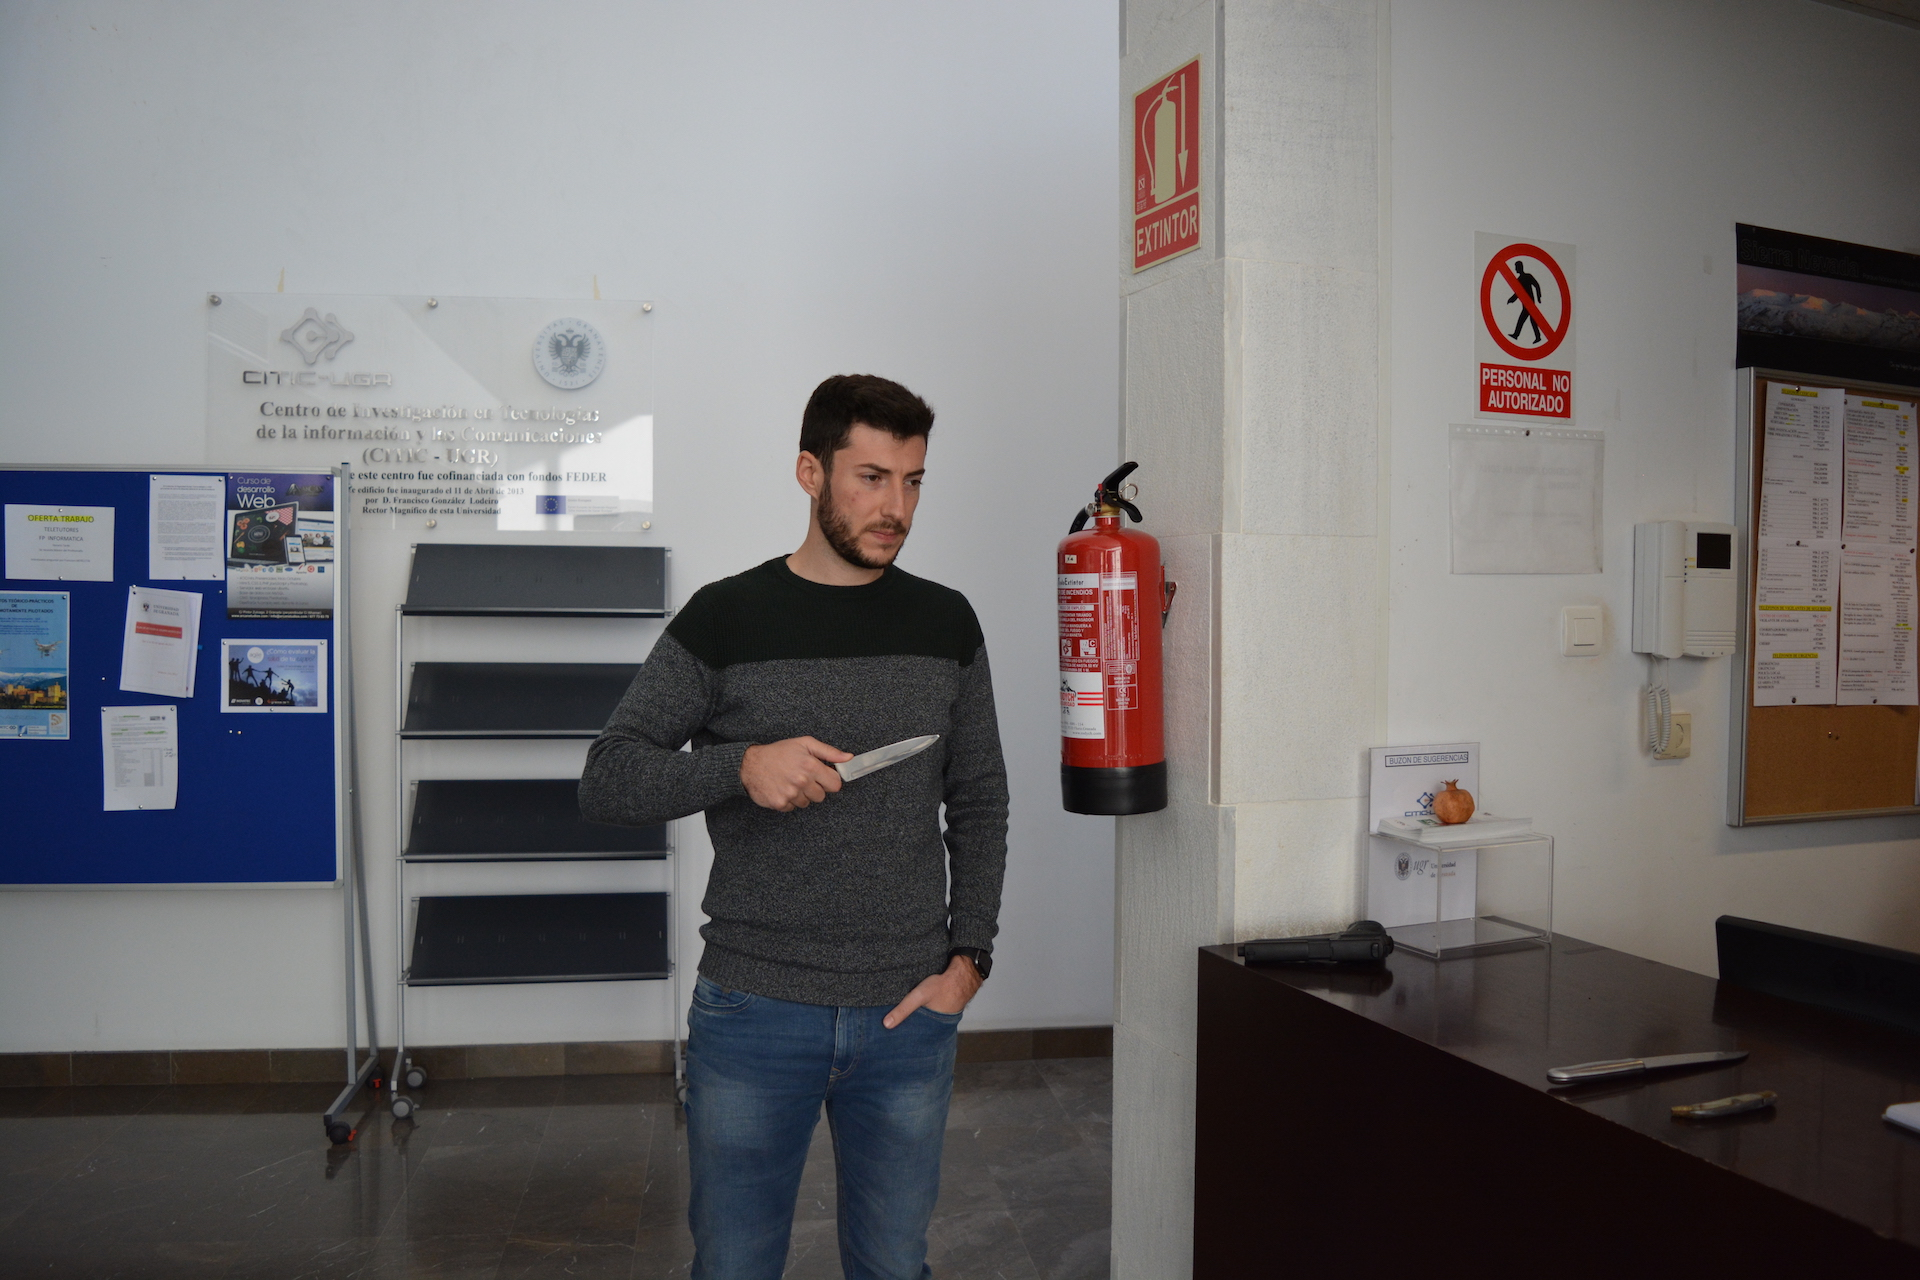knife: (811, 726, 949, 789)
